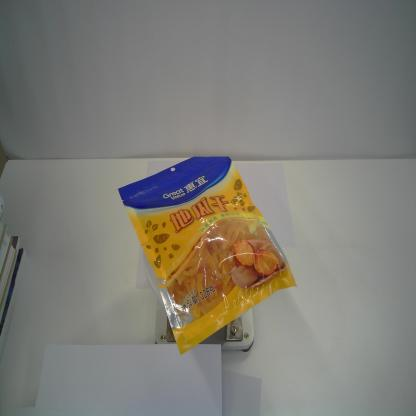Dried Fruit: (115, 155, 300, 358)
